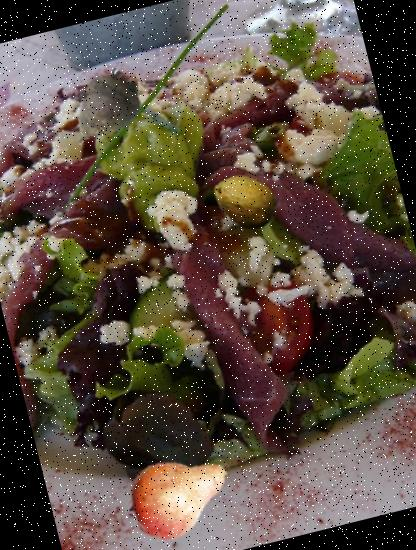Beetroot: (50, 58, 159, 166)
Papaya: (205, 161, 285, 241)
Pear: (117, 433, 244, 550)
